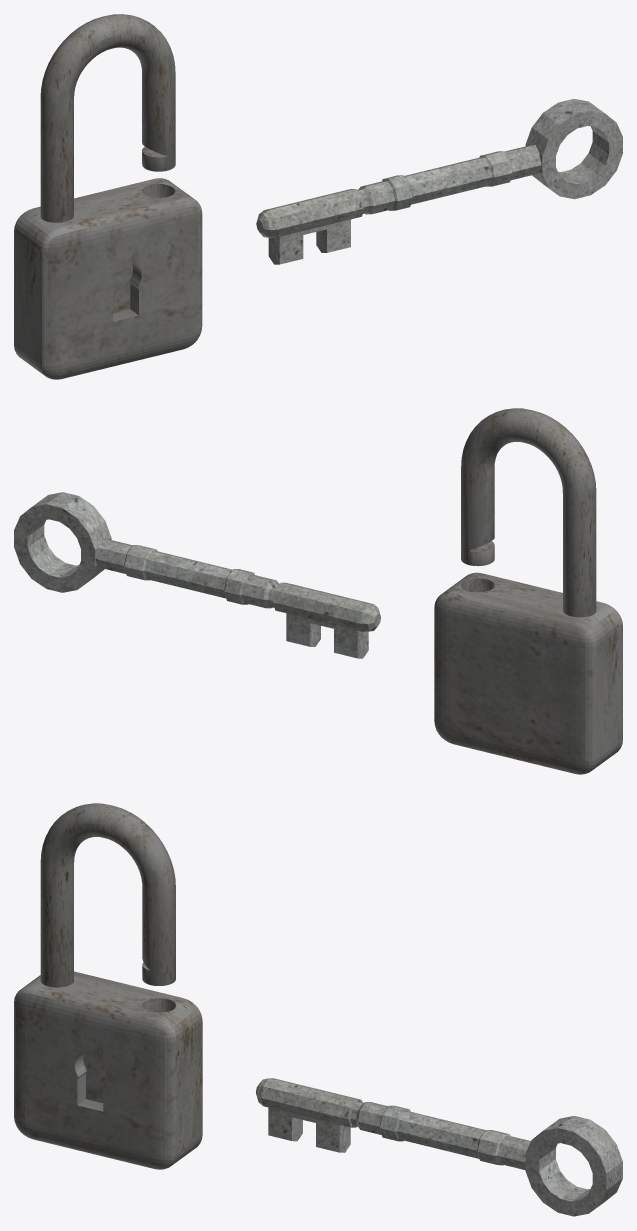
Rendered from Lock-Simple.fbx.
3 views of the same model, one above another, from view 1: azimuth 30°, elevation 25°; view 2: azimuth 150°, elevation 25°; view 3: azimuth 330°, elevation 25° (orthographic).
Visible parts, largest first — view 1: Cube, Circle.001, Cylinder; view 2: Cube, Circle.001, Cylinder; view 3: Cube, Circle.001, Cylinder.
Boxes of the visible parts, box(x1,y1,x2,y2) form: Cube: box(14, 178, 202, 379); Circle.001: box(256, 99, 622, 264); Cylinder: box(40, 14, 175, 222); Cube: box(434, 572, 622, 774); Circle.001: box(14, 492, 380, 658); Cylinder: box(461, 408, 596, 617); Cube: box(14, 971, 202, 1169); Circle.001: box(256, 1078, 622, 1216); Cylinder: box(40, 803, 175, 987).
Size of the model in its own units: 657 by 361 by 69.57.
